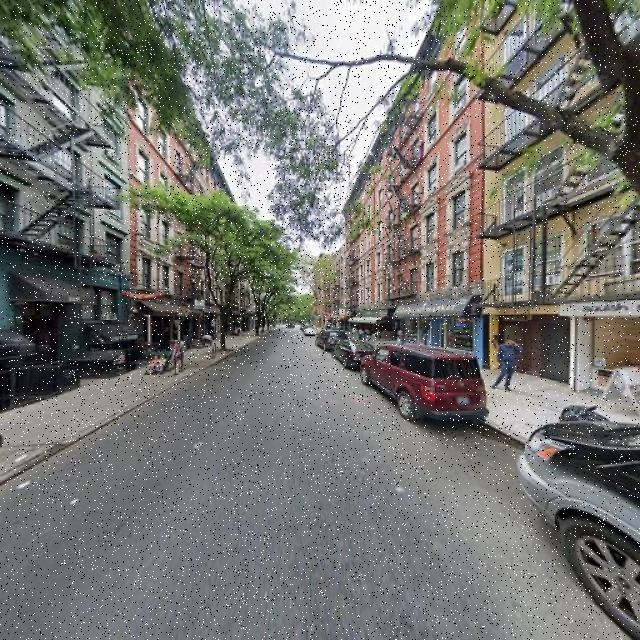Building: (484, 1, 640, 395), (1, 1, 127, 390), (395, 1, 479, 360)
